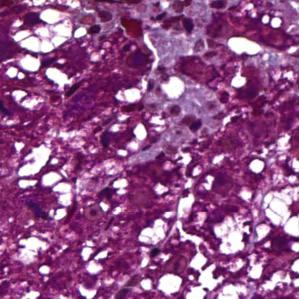ballooning: (8, 5, 76, 55), (259, 184, 299, 242)
